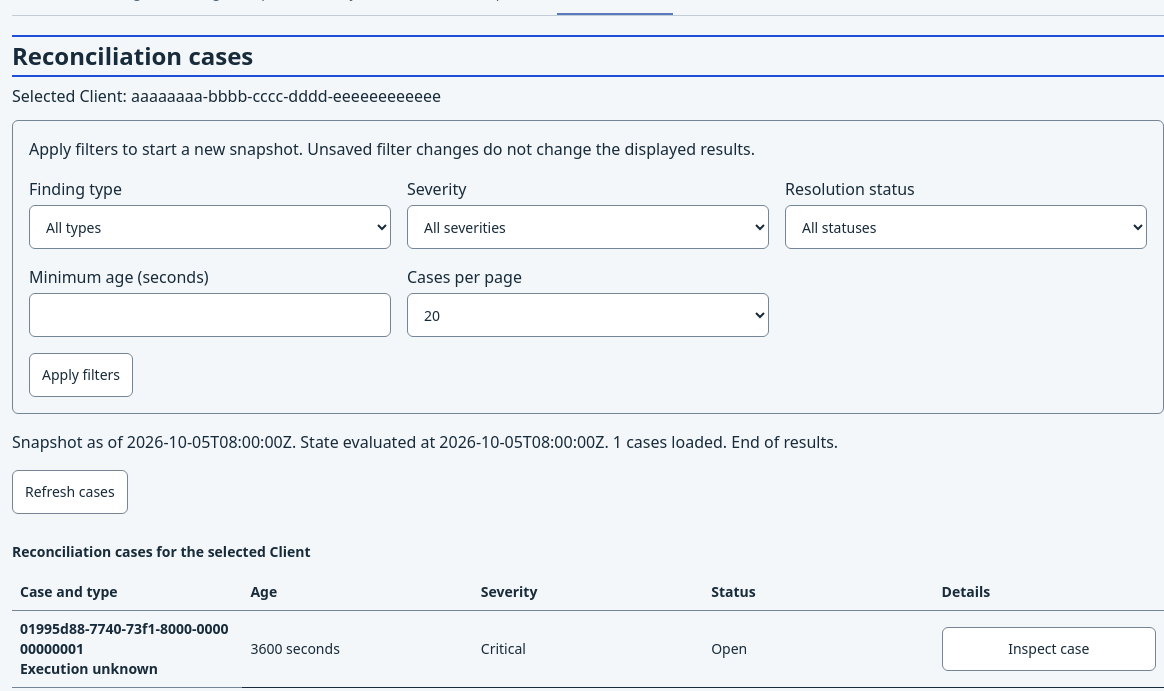
Test case: reconciliation workspace › purges open private details when permission is lost
Click the button "Inspect case": (1049, 649) [942, 627, 1156, 671]
(page scrolled)
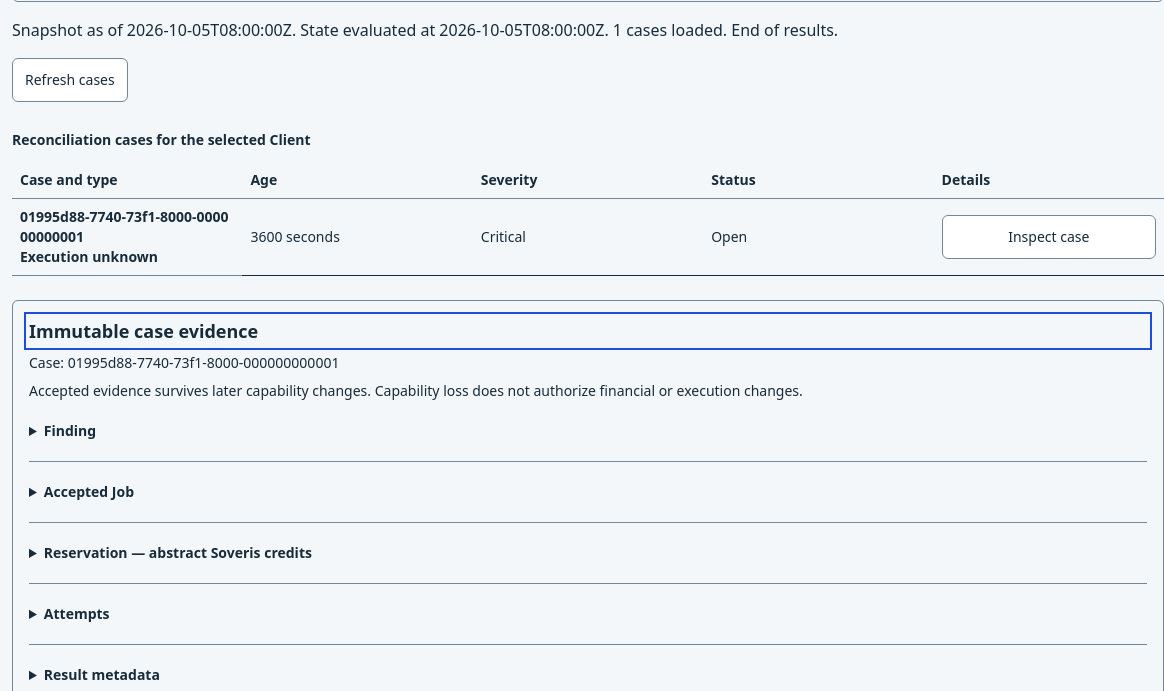
expect the heading "Immutable case evidence" is shown: met, box [29, 319, 258, 343]
